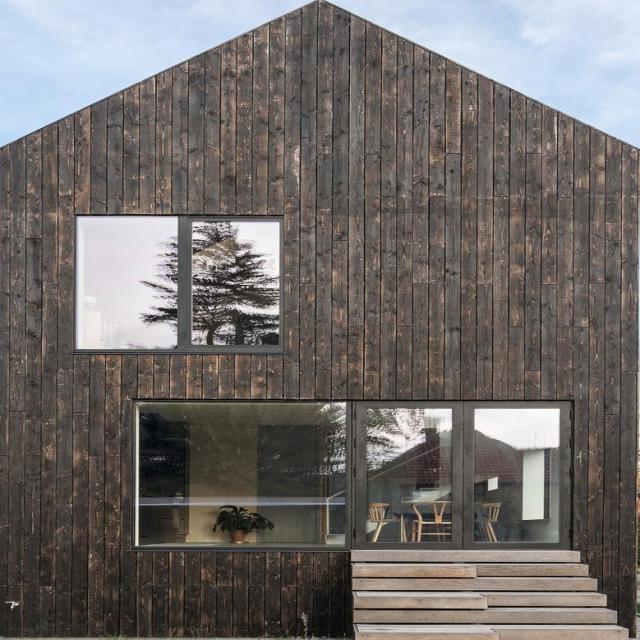door: (346, 400, 572, 549)
window: (135, 399, 573, 548), (76, 214, 284, 356)
